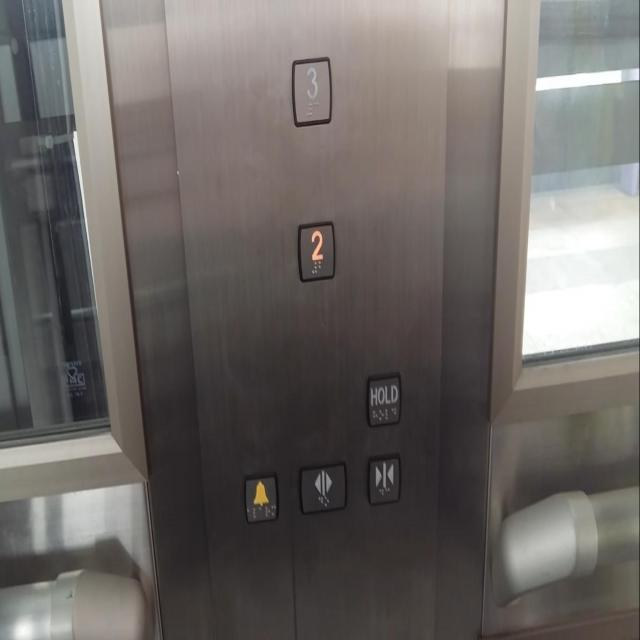2: (297, 219, 336, 283)
3: (291, 55, 333, 128)
alarm: (242, 469, 280, 527)
close: (364, 448, 402, 509)
open: (299, 460, 347, 515)
text_HOLD: (365, 369, 402, 428)
